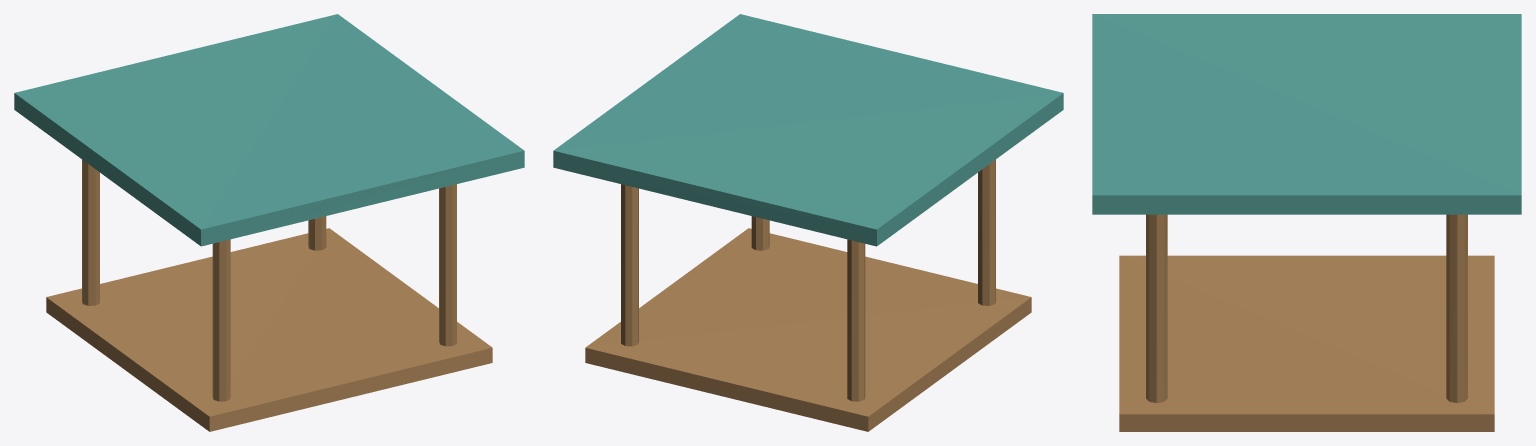
Rendered from gazebo.source.glb.
3 views of the same model, side by side, from view 1: azimuth 30°, elevation 25°; view 2: azimuth 150°, elevation 25°; view 3: azimuth 270°, elevation 25° (orthographic). The views are drawn at different scales.
Visible parts, largest first — view 1: gazebo-roof-mesh, gazebo-floor-mesh, gazebo-post--1.4-1.4-mesh, gazebo-post-1.4-1.4-mesh, gazebo-post--1.4--1.4-mesh, gazebo-post-1.4--1.4-mesh; view 2: gazebo-roof-mesh, gazebo-floor-mesh, gazebo-post--1.4--1.4-mesh, gazebo-post-1.4--1.4-mesh, gazebo-post--1.4-1.4-mesh, gazebo-post-1.4-1.4-mesh; view 3: gazebo-roof-mesh, gazebo-floor-mesh, gazebo-post-1.4--1.4-mesh, gazebo-post-1.4-1.4-mesh.
Boxes of the visible parts, bbox=[...] form: gazebo-roof-mesh: bbox=[14, 14, 524, 246]; gazebo-floor-mesh: bbox=[46, 228, 492, 431]; gazebo-post--1.4-1.4-mesh: bbox=[212, 239, 230, 401]; gazebo-post-1.4-1.4-mesh: bbox=[439, 184, 456, 346]; gazebo-post--1.4--1.4-mesh: bbox=[82, 159, 99, 305]; gazebo-post-1.4--1.4-mesh: bbox=[308, 216, 326, 250]; gazebo-roof-mesh: bbox=[553, 14, 1063, 246]; gazebo-floor-mesh: bbox=[585, 228, 1031, 431]; gazebo-post--1.4--1.4-mesh: bbox=[847, 239, 865, 401]; gazebo-post-1.4--1.4-mesh: bbox=[621, 184, 638, 346]; gazebo-post--1.4-1.4-mesh: bbox=[978, 159, 995, 305]; gazebo-post-1.4-1.4-mesh: bbox=[751, 216, 769, 250]; gazebo-roof-mesh: bbox=[1092, 14, 1521, 214]; gazebo-floor-mesh: bbox=[1119, 255, 1494, 431]; gazebo-post-1.4--1.4-mesh: bbox=[1446, 214, 1467, 402]; gazebo-post-1.4-1.4-mesh: bbox=[1146, 214, 1167, 402].
Bounding box in the file's own units: 4 × 2.55 × 4.
